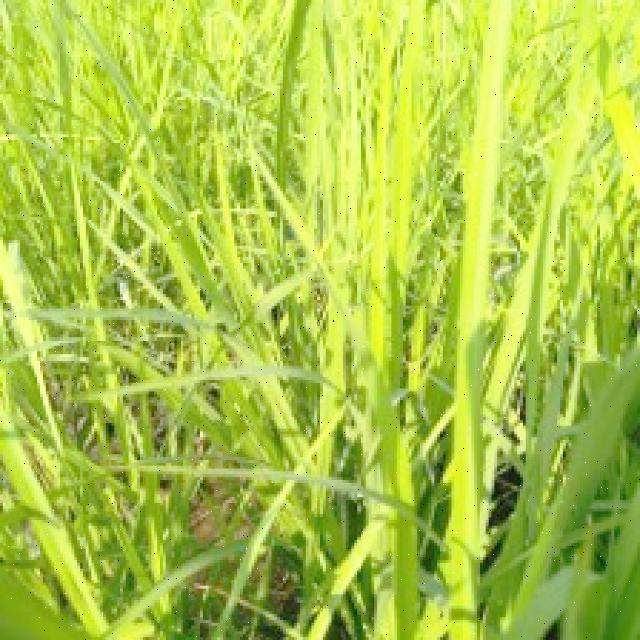health: (314, 0, 640, 637)
